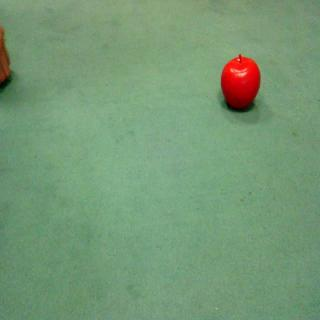apple: (212, 44, 271, 123)
